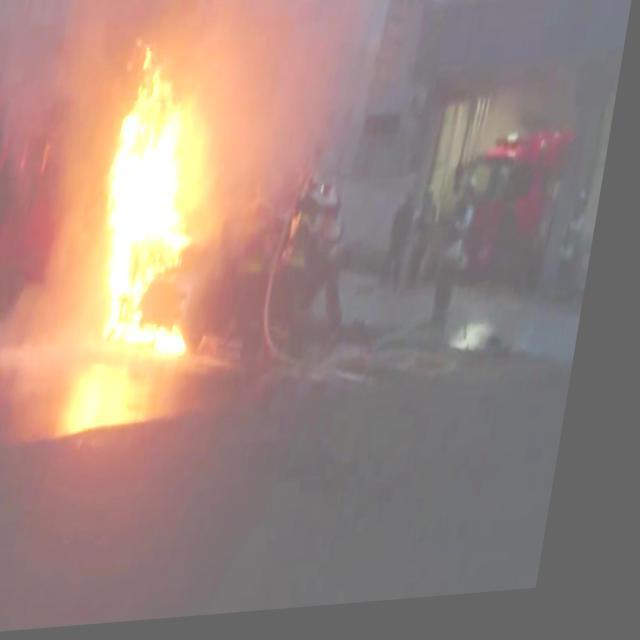Fire: (90, 34, 248, 370)
